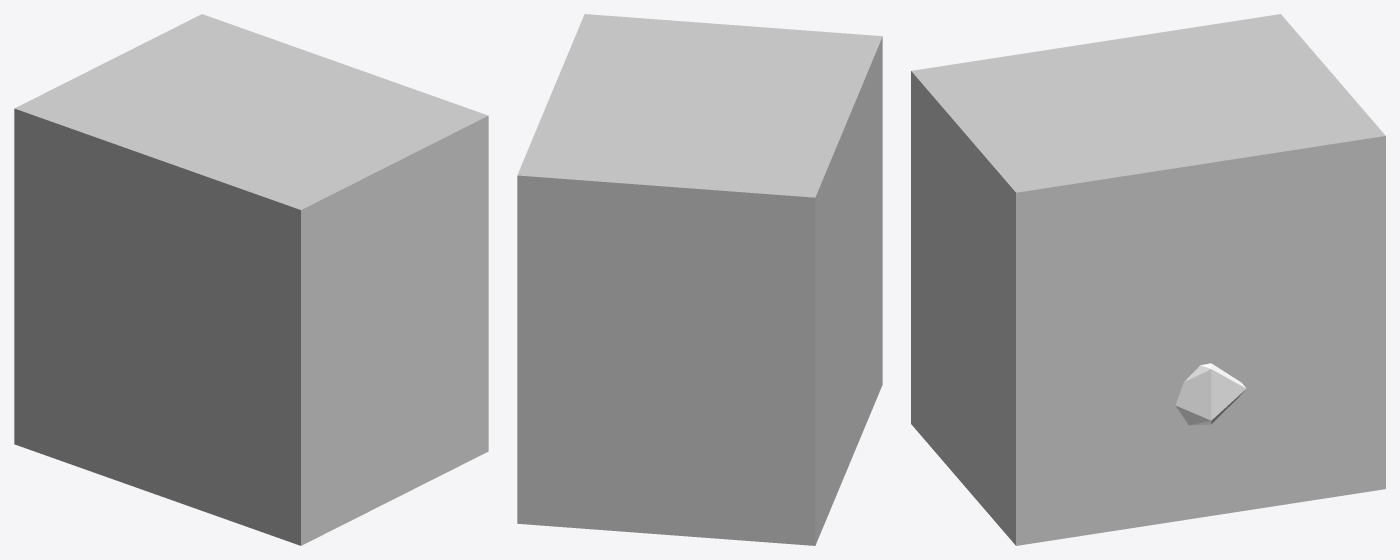
File: plains_pet4.fbx
3 renders of one model, left to right at view 1: azimuth 30°, elevation 25°; view 2: azimuth 150°, elevation 25°; view 3: azimuth 270°, elevation 25°, orthographic. The views are drawn at different scales.
Visible parts, largest first — view 1: Root__0.00_0.42_0.01__0.67_0.85_0.86; view 2: Root__0.00_0.42_0.01__0.67_0.85_0.86; view 3: Root__0.00_0.42_0.01__0.67_0.85_0.86, WingL__Body__-0.24_0.35_0.03.
Boxes of the visible parts, box(x1,y1,x2,y2) form: Root__0.00_0.42_0.01__0.67_0.85_0.86: box(14, 14, 488, 545); Root__0.00_0.42_0.01__0.67_0.85_0.86: box(517, 14, 882, 545); Root__0.00_0.42_0.01__0.67_0.85_0.86: box(911, 14, 1385, 545); WingL__Body__-0.24_0.35_0.03: box(1175, 363, 1246, 425).
Size of the model in its own units: 25.99 by 23.94 by 29.16.
1 material, 1 textured.
